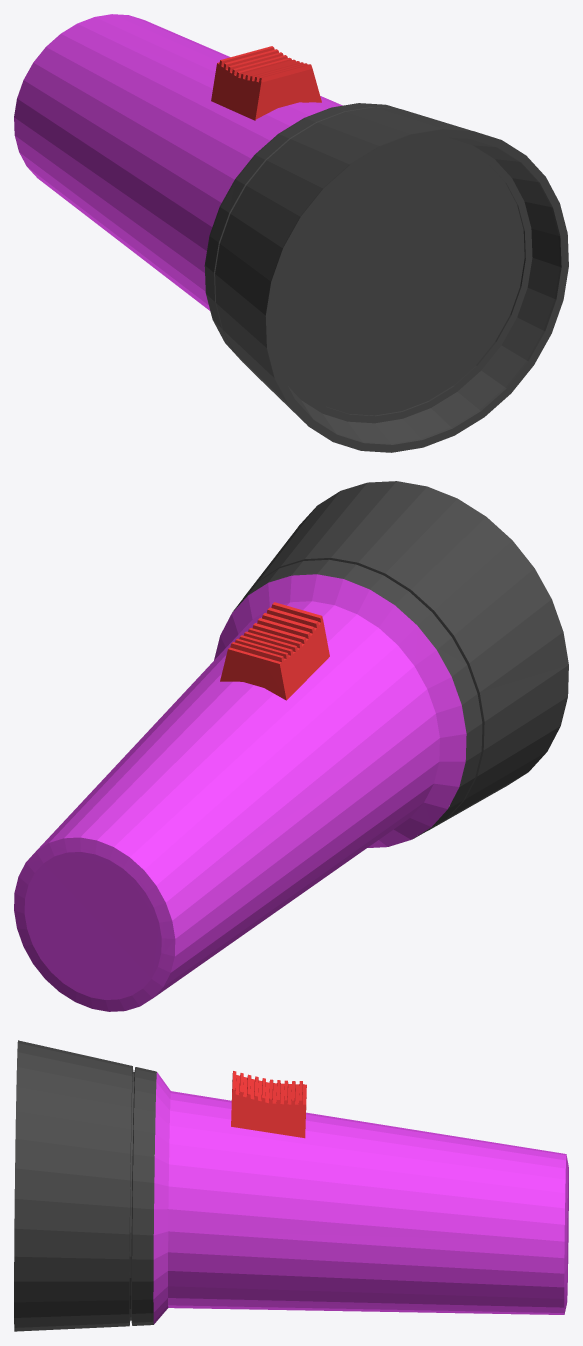
The model's file is flashlightmodel.glb.
3 renders of one model, top to bottom at view 1: azimuth 30°, elevation 25°; view 2: azimuth 150°, elevation 25°; view 3: azimuth 270°, elevation 25°, orthographic. The views are drawn at different scales.
Parts seen in each view (by area): view 1: Flashlight_primitive2, Flashlight_primitive0, Flashlight_primitive1; view 2: Flashlight_primitive0, Flashlight_primitive2, Flashlight_primitive1; view 3: Flashlight_primitive0, Flashlight_primitive2, Flashlight_primitive1.
Part boxes in pixels (x1,y1,x2,y2): Flashlight_primitive2: (204,103,568,452); Flashlight_primitive0: (14,14,342,310); Flashlight_primitive1: (211,46,321,120); Flashlight_primitive0: (14,574,466,1011); Flashlight_primitive2: (232,481,568,839); Flashlight_primitive1: (220,602,329,700); Flashlight_primitive0: (153,1072,568,1324); Flashlight_primitive2: (14,1040,156,1331); Flashlight_primitive1: (231,1071,306,1138).
Bounding box in the file's own units: 0.386 × 0.3862 × 0.7358.
